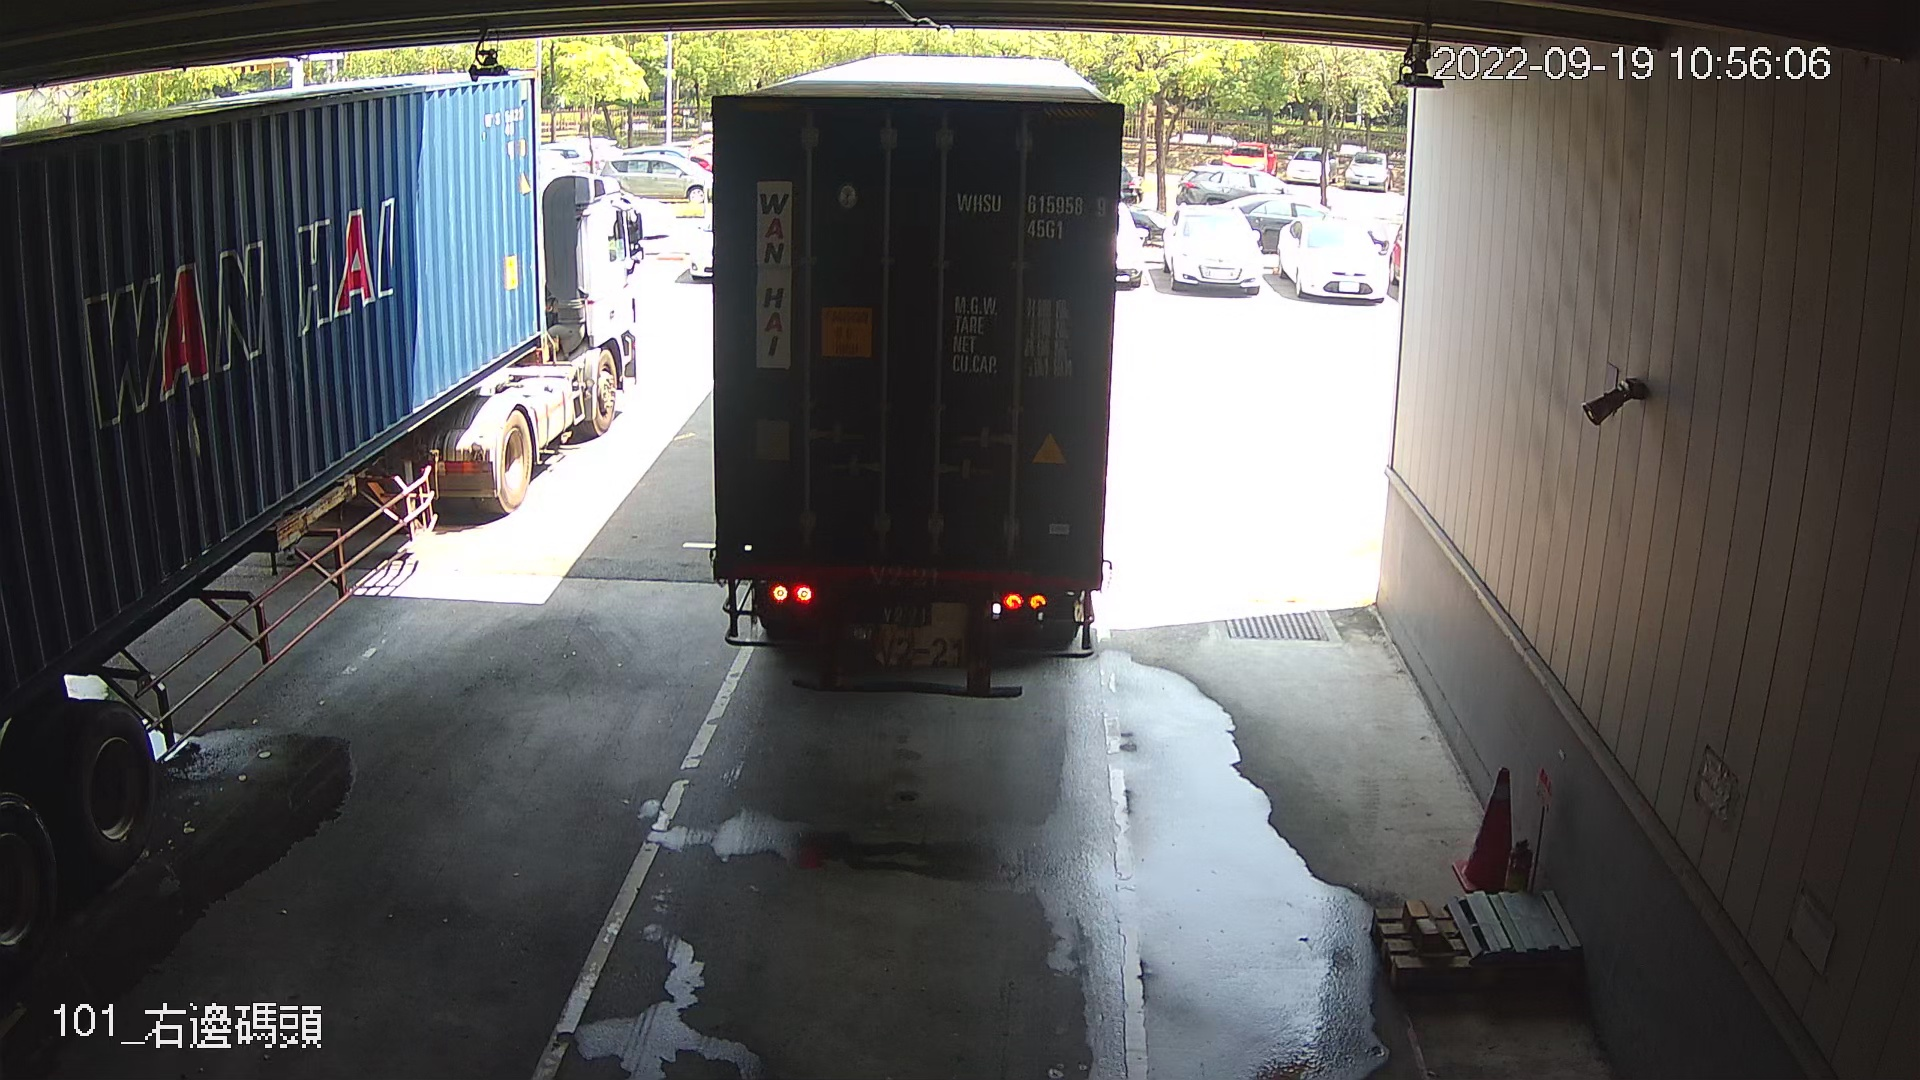container: (951, 185, 1112, 245)
